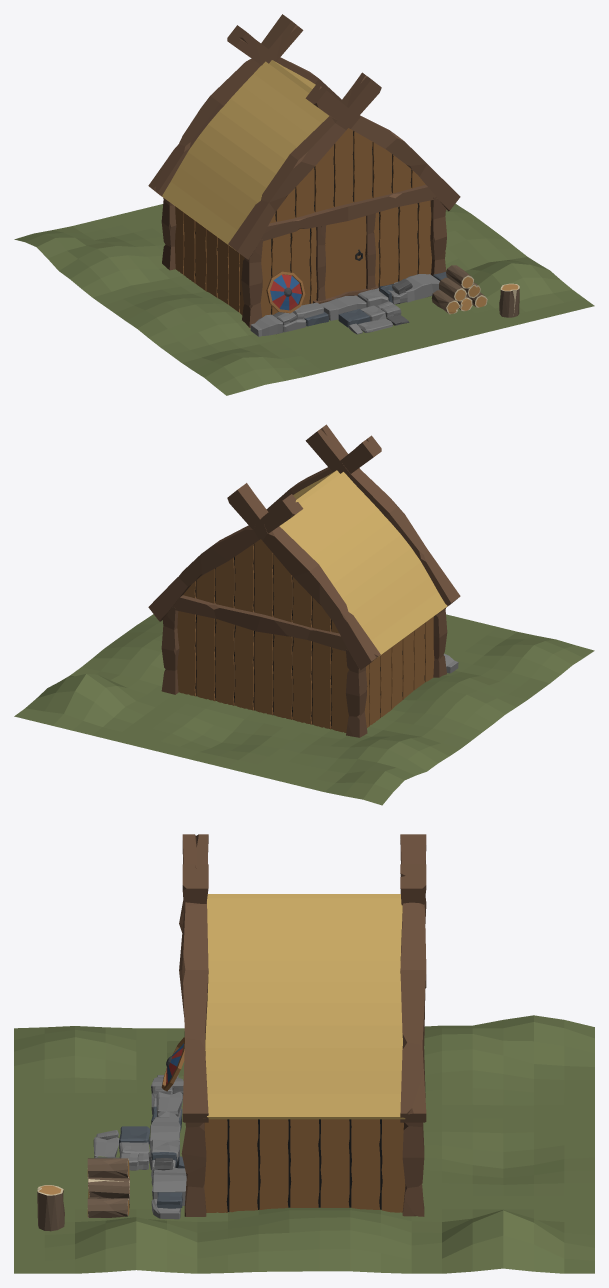
Rendered from viking_house.glb.
3 views of the same model, one above another, from view 1: azimuth 30°, elevation 25°; view 2: azimuth 150°, elevation 25°; view 3: azimuth 270°, elevation 25° (orthographic). The views are drawn at different scales.
Visible parts, largest first — view 1: Plane, roof, plank.007, plank.001, plank.004, plank, door, column.001, column, Cylinder.009, column.004, column.006 (+7 smaller); view 2: Plane, roof, plank.005, plank.006, plank.004, column.007, column.006, column.005, viking.cottage, column; view 3: Plane, roof, plank.002, column.004, column.005, viking.cottage, Cylinder.002, stone.large.004, Cylinder.007, Cylinder.008, Cylinder.005, stone.large.003 (+2 smaller).
Part boxes in pixels (x1=…): Plane: x1=14, y1=203, x2=594, y2=395; roof: x1=148, y1=14, x2=460, y2=259; plank.007: x1=270, y1=128, x2=425, y2=223; plank.001: x1=364, y1=200, x2=431, y2=290; plank.004: x1=175, y1=206, x2=244, y2=314; plank: x1=260, y1=227, x2=325, y2=317; door: x1=324, y1=216, x2=365, y2=298; column.001: x1=261, y1=185, x2=437, y2=241; column: x1=241, y1=239, x2=262, y2=327; Cylinder.009: x1=266, y1=271, x2=305, y2=313; column.004: x1=430, y1=197, x2=446, y2=275; column.006: x1=161, y1=198, x2=176, y2=270; Plane: x1=14, y1=614, x2=594, y2=805; roof: x1=148, y1=424, x2=460, y2=670; plank.005: x1=177, y1=611, x2=348, y2=732; plank.006: x1=183, y1=539, x2=339, y2=633; plank.004: x1=364, y1=616, x2=434, y2=727; column.007: x1=172, y1=595, x2=347, y2=651; column.006: x1=346, y1=649, x2=367, y2=737; column.005: x1=161, y1=607, x2=179, y2=694; viking.cottage: x1=195, y1=544, x2=425, y2=728; column: x1=433, y1=608, x2=447, y2=677; Plane: x1=14, y1=1015, x2=594, y2=1273; roof: x1=179, y1=834, x2=426, y2=1122; plank.002: x1=204, y1=1119, x2=405, y2=1212; column.004: x1=181, y1=1122, x2=206, y2=1216; column.005: x1=402, y1=1122, x2=424, y2=1216; viking.cottage: x1=226, y1=1119, x2=382, y2=1211; Cylinder.002: x1=37, y1=1185, x2=64, y2=1231; stone.large.004: x1=151, y1=1167, x2=186, y2=1205; Cylinder.007: x1=88, y1=1177, x2=129, y2=1198; Cylinder.008: x1=87, y1=1158, x2=129, y2=1178; Cylinder.005: x1=87, y1=1198, x2=129, y2=1217; stone.large.003: x1=149, y1=1116, x2=180, y2=1147.
Size of the model in its own units: 8 by 4.76 by 8.
